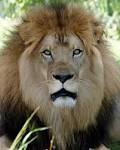lion: (1, 1, 119, 150)
